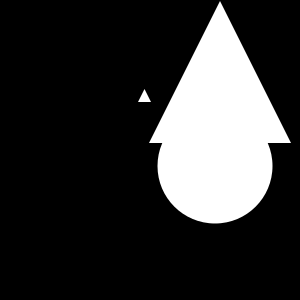rectangle: (158, 109, 272, 224)
triangle: (149, 1, 291, 143), (138, 89, 151, 102)
